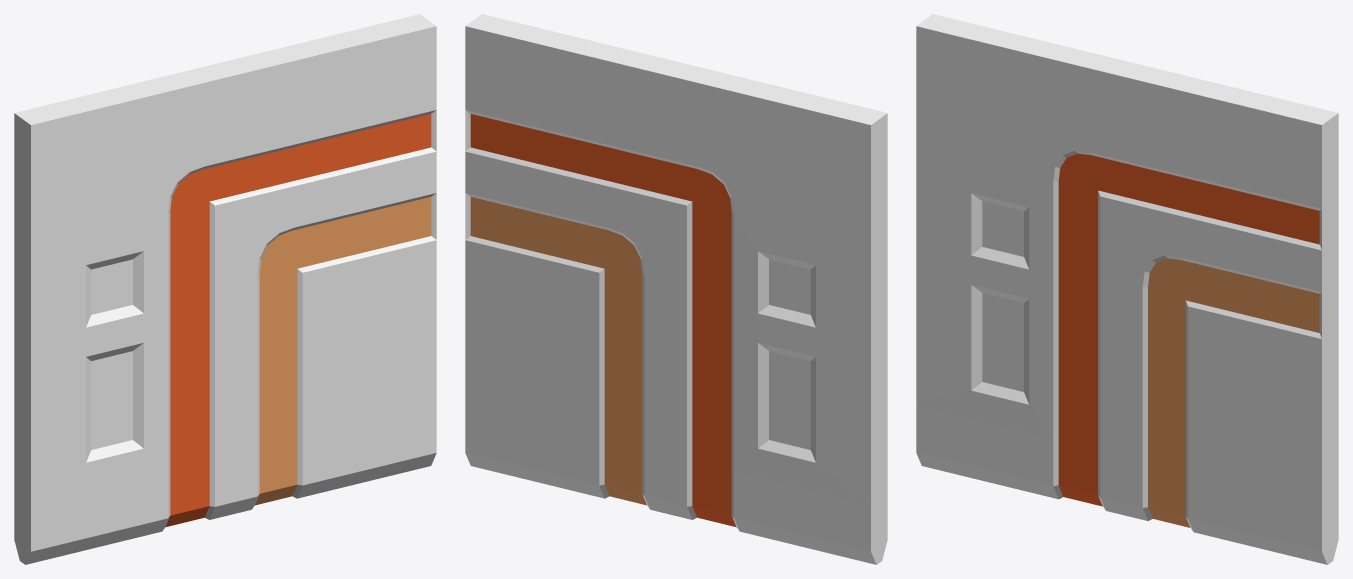
The model's file is door.fbx.
The picture shows the model from 3 angles, left to right: view 1: azimuth 30°, elevation 25°; view 2: azimuth 150°, elevation 25°; view 3: azimuth 330°, elevation 25°; orthographic projection.
Parts seen in each view (by area): view 1: Door; view 2: Door; view 3: Door.
Part boxes in pixels (x1,y1,x2,y2): Door: (14,14,436,564); Door: (465,14,887,564); Door: (916,14,1338,564).
Bounding box in the file's own units: 100 × 105 × 7.15.
